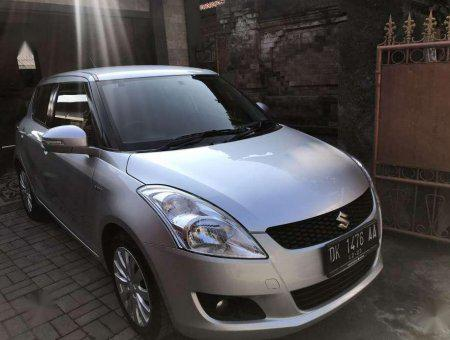plate: (326, 219, 380, 278)
